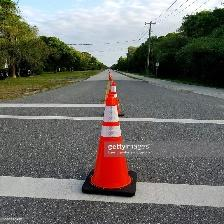traffic cone: (81, 92, 137, 197), (107, 81, 125, 117)
